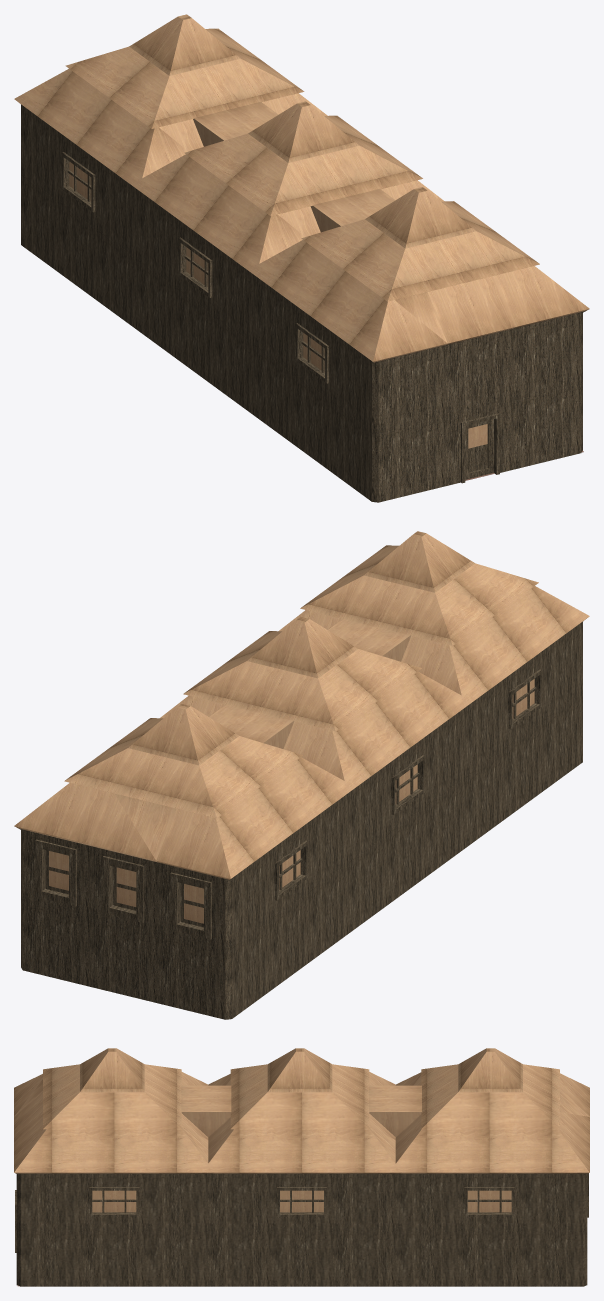
Rendered from House(Fixed).obj.
The picture shows the model from 3 angles, top to bottom: view 1: azimuth 30°, elevation 25°; view 2: azimuth 150°, elevation 25°; view 3: azimuth 270°, elevation 25°; orthographic projection. The views are drawn at different scales.
Parts seen in each view (by area): view 1: mergedBlocks; view 2: mergedBlocks; view 3: mergedBlocks.
Part boxes in pixels (box(x1,y1,x2,y2)): mergedBlocks: box(14, 14, 589, 502); mergedBlocks: box(14, 531, 589, 1019); mergedBlocks: box(14, 1048, 589, 1286).
Size of the model in its own units: 3.21 by 3.46 by 9.21.
12 materials, 11 textured.
